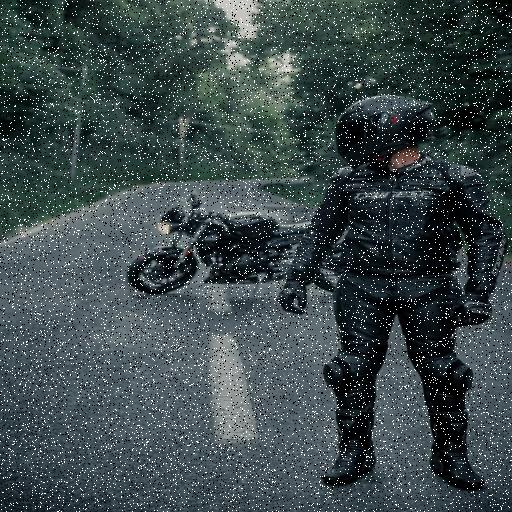Helmet: (322, 84, 448, 186)
Motor: (138, 186, 352, 312)
